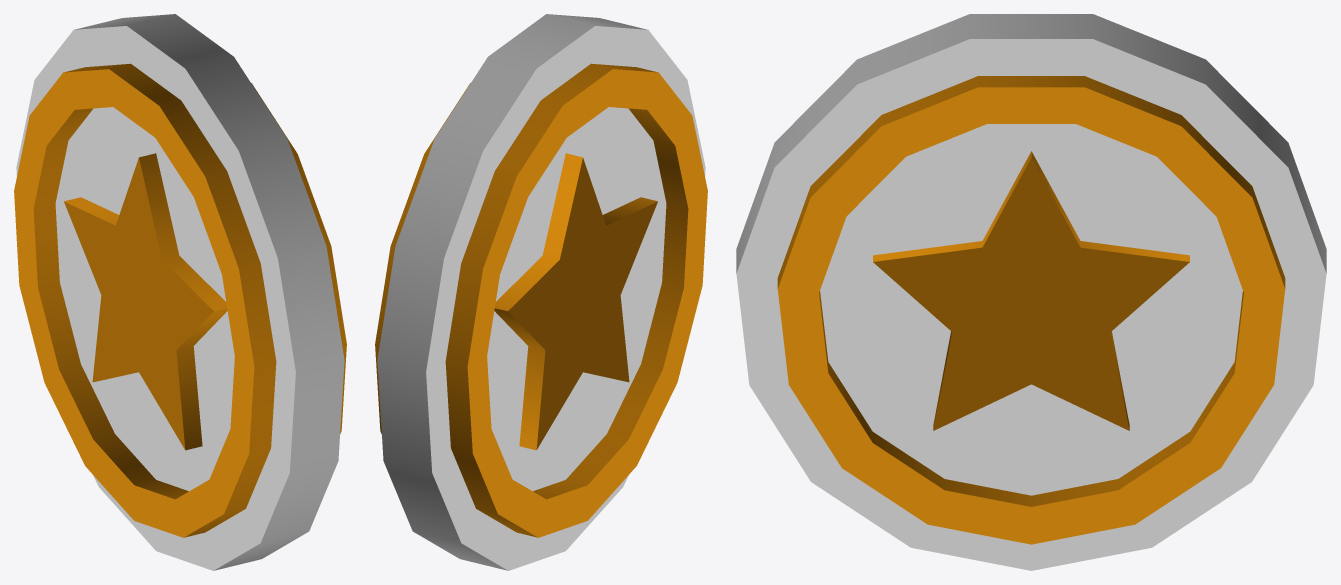
File: CaveRacerCoin.obj
The picture shows the model from 3 angles, left to right: view 1: azimuth 30°, elevation 25°; view 2: azimuth 150°, elevation 25°; view 3: azimuth 270°, elevation 25°; orthographic projection. The views are drawn at different scales.
Parts seen in each view (by area): view 1: Cylinder, Tube, Cap_2, Extrude; view 2: Cylinder, Tube, Cap_2, Extrude; view 3: Cylinder, Tube, Cap_1, Extrude.
Part boxes in pixels (bbox=[...]): Cylinder: bbox=[16, 14, 344, 570]; Tube: bbox=[14, 63, 346, 537]; Cap_2: bbox=[64, 158, 213, 449]; Extrude: bbox=[64, 153, 227, 450]; Cylinder: bbox=[377, 14, 705, 570]; Tube: bbox=[375, 63, 707, 537]; Cap_2: bbox=[508, 158, 657, 449]; Extrude: bbox=[494, 153, 657, 450]; Cylinder: bbox=[736, 14, 1326, 570]; Tube: bbox=[777, 76, 1285, 544]; Cap_1: bbox=[873, 158, 1189, 430]; Extrude: bbox=[873, 151, 1189, 430].
Bounding box in the file's own units: 0.19 × 0.9891 × 0.9945.
